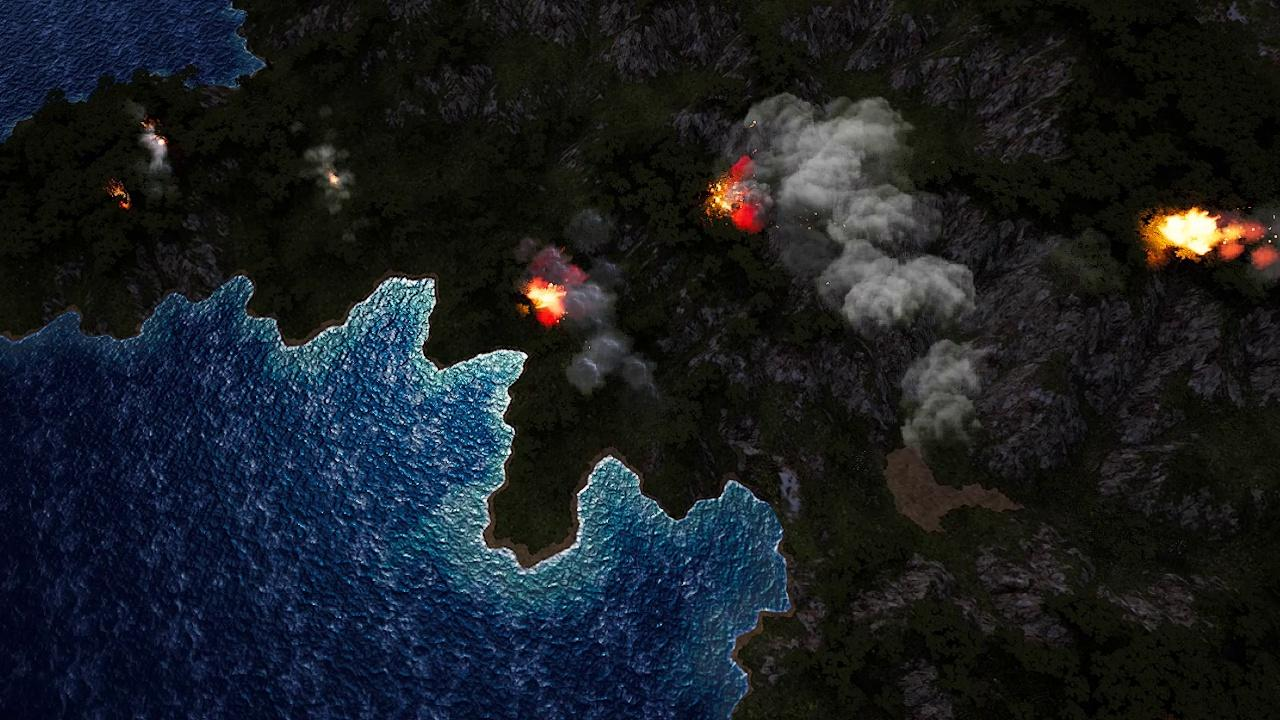fire: (705, 158, 757, 230), (1155, 210, 1227, 261), (526, 280, 568, 324), (143, 119, 172, 150), (110, 183, 135, 210), (327, 169, 345, 188)
smoke: (726, 96, 1152, 459), (546, 207, 666, 408), (302, 141, 355, 215), (1233, 205, 1280, 271)
